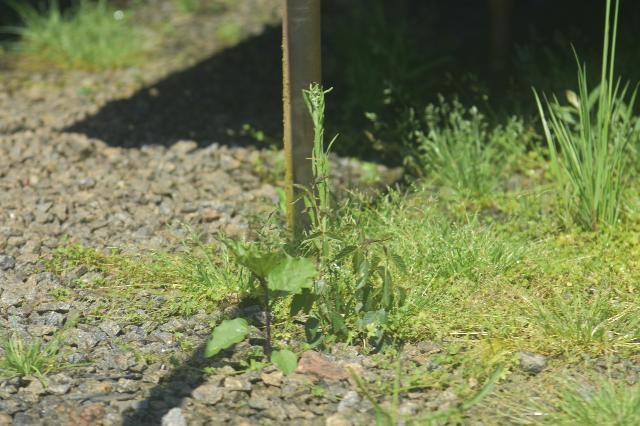MalezaMontesDelPlata: (47, 230, 240, 323), (198, 234, 314, 380), (335, 199, 419, 359), (387, 212, 540, 293), (295, 75, 339, 345), (507, 290, 640, 360), (0, 322, 77, 383)
